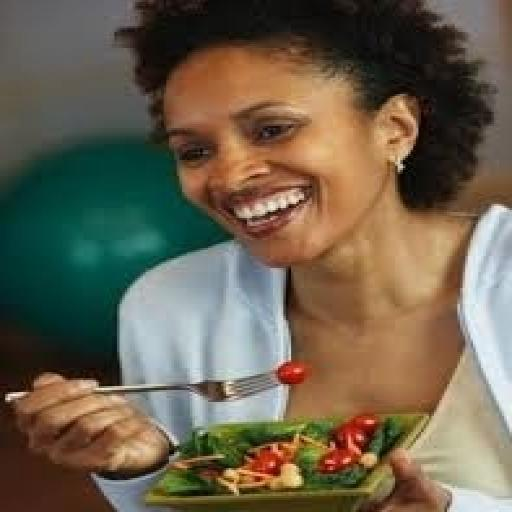laughing: (6, 0, 510, 510)
